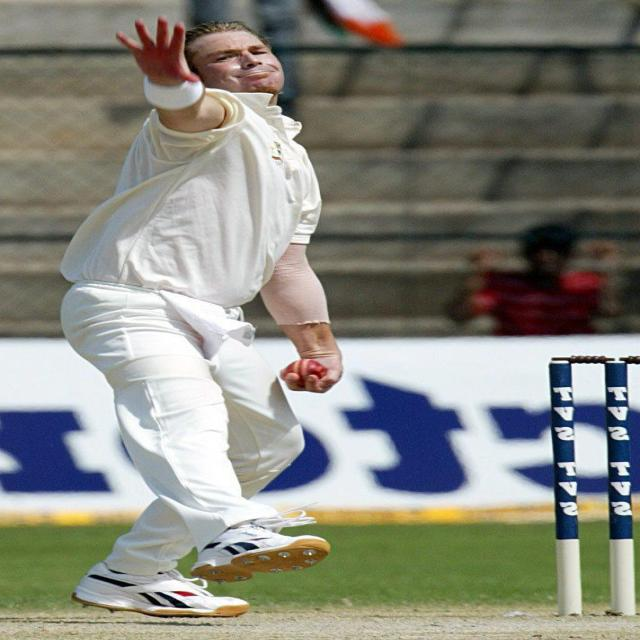ball: (283, 356, 328, 386)
